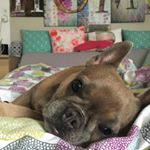puppy: (23, 39, 149, 147)
